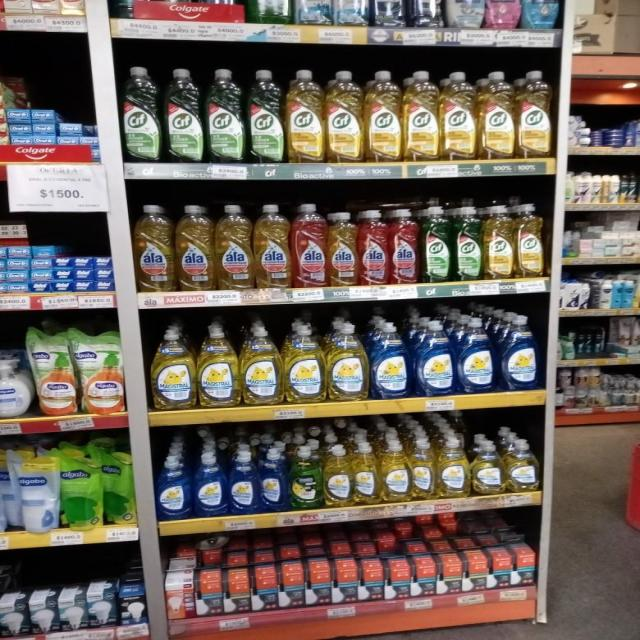ala_conc_amarillo: (134, 204, 174, 292), (176, 204, 214, 292), (216, 204, 253, 290), (255, 202, 291, 290), (328, 210, 357, 287)
ala_conc_rojo: (293, 202, 326, 288), (390, 208, 420, 284), (359, 208, 388, 286)
cif_conc_bot_amarilla: (286, 69, 324, 164), (325, 70, 363, 164), (478, 70, 516, 160), (365, 70, 401, 163), (403, 70, 439, 163), (517, 69, 553, 160), (441, 70, 476, 161), (484, 204, 514, 280), (516, 203, 544, 278)
cif_conc_botella_verde: (122, 65, 161, 164), (205, 68, 245, 164), (164, 67, 203, 164), (246, 69, 284, 164), (421, 206, 452, 283), (453, 205, 482, 281)
magistral_con_amarillo: (150, 326, 195, 411), (198, 326, 239, 408), (284, 323, 325, 404), (327, 322, 368, 402), (241, 326, 282, 406), (438, 437, 469, 499), (472, 440, 504, 496), (324, 445, 352, 508), (508, 439, 541, 492), (353, 442, 380, 506), (382, 440, 409, 503), (411, 439, 437, 501)
magistral_con_azul: (370, 321, 410, 400), (456, 316, 496, 394), (414, 318, 454, 396), (500, 314, 540, 391), (155, 455, 191, 520), (194, 450, 227, 517), (229, 448, 258, 514), (260, 447, 288, 513)
magistral_con_verde: (290, 446, 322, 510)
